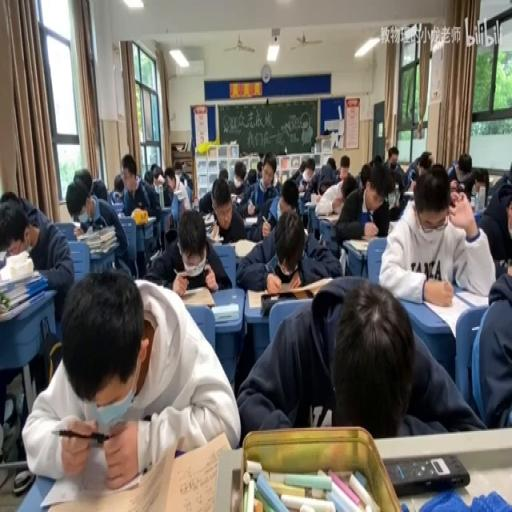calculator: (158, 431, 232, 508), (422, 286, 484, 340), (178, 286, 216, 308), (78, 224, 114, 242), (300, 274, 334, 293), (233, 236, 257, 258), (212, 302, 238, 322), (53, 219, 75, 242), (246, 287, 266, 307), (89, 244, 117, 258), (346, 239, 370, 253), (208, 222, 220, 242), (318, 212, 340, 222), (110, 200, 124, 214), (117, 213, 133, 225), (202, 212, 214, 225), (243, 214, 257, 224), (402, 189, 414, 199), (149, 248, 159, 260), (142, 215, 156, 223), (305, 198, 317, 206), (229, 192, 238, 202)
paper: (25, 267, 237, 488), (234, 270, 478, 437), (378, 164, 494, 304), (2, 191, 74, 327), (236, 202, 338, 289), (67, 171, 131, 280), (473, 256, 512, 428), (334, 164, 386, 244), (478, 161, 512, 273), (198, 171, 250, 239), (242, 150, 280, 228), (119, 154, 157, 220), (162, 162, 190, 218), (445, 151, 477, 199), (383, 148, 408, 209), (404, 148, 434, 190), (278, 186, 298, 215), (73, 168, 93, 196), (90, 175, 108, 202), (341, 175, 357, 200), (112, 174, 124, 200), (290, 165, 303, 186), (150, 164, 162, 184), (360, 164, 370, 188), (0, 189, 18, 202), (298, 181, 310, 199), (339, 155, 350, 174), (234, 168, 245, 186), (318, 180, 332, 194), (430, 162, 446, 174), (246, 168, 257, 183), (218, 168, 229, 182), (306, 160, 314, 178), (326, 156, 335, 170), (180, 162, 189, 175), (256, 159, 262, 178), (373, 154, 382, 164), (300, 160, 306, 174), (179, 174, 185, 184)
person: (384, 452, 470, 494), (13, 469, 35, 495)
